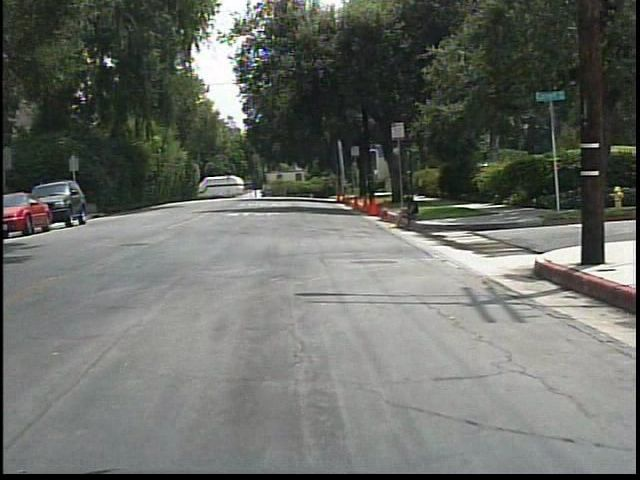person: (390, 191, 423, 235)
